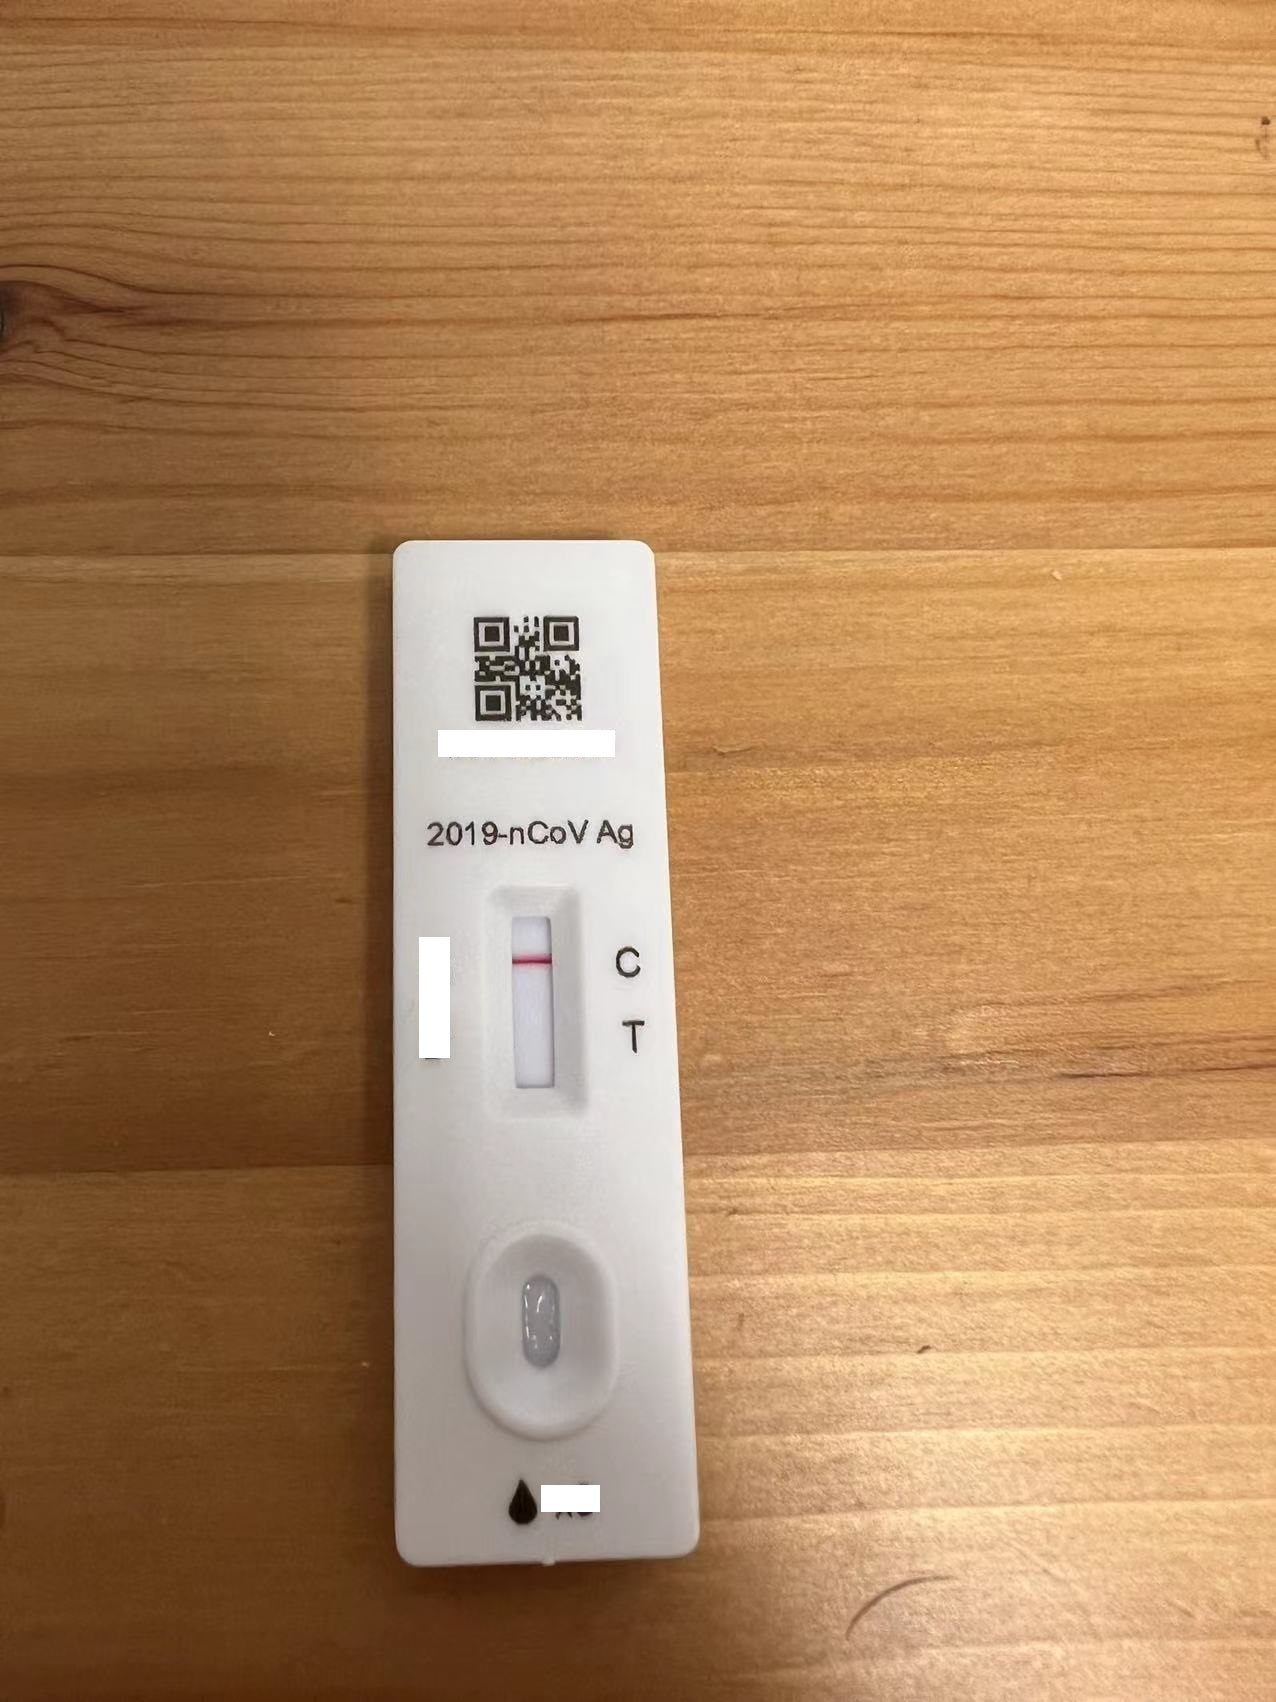negative: (488, 890, 594, 1119)
